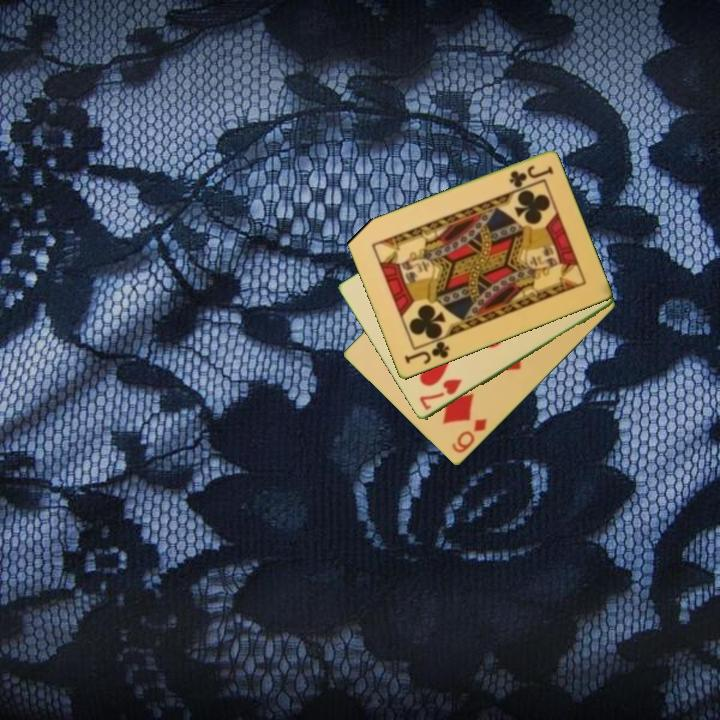6d: (448, 415, 490, 456)
7h: (415, 376, 465, 413)
Jc: (401, 338, 452, 368), (505, 162, 556, 191)
